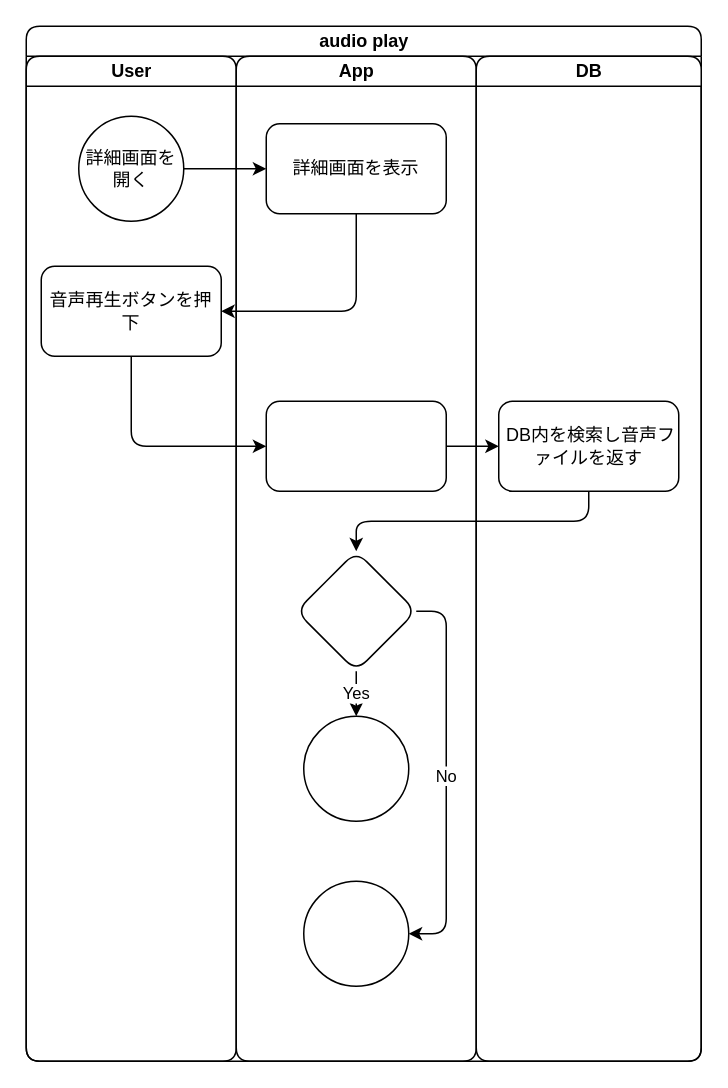
Image size: 728x1088. Some labels were removed from this diagram. The box of each missing label's shape, as (x1, y1, x2, y2) in pixels:
エラーメッセージを表示: (302, 880, 409, 986)
クエリを送信: (265, 400, 446, 491)
ファイルを正しく取得できた: (295, 550, 416, 671)
音声を再生: (302, 715, 409, 821)
